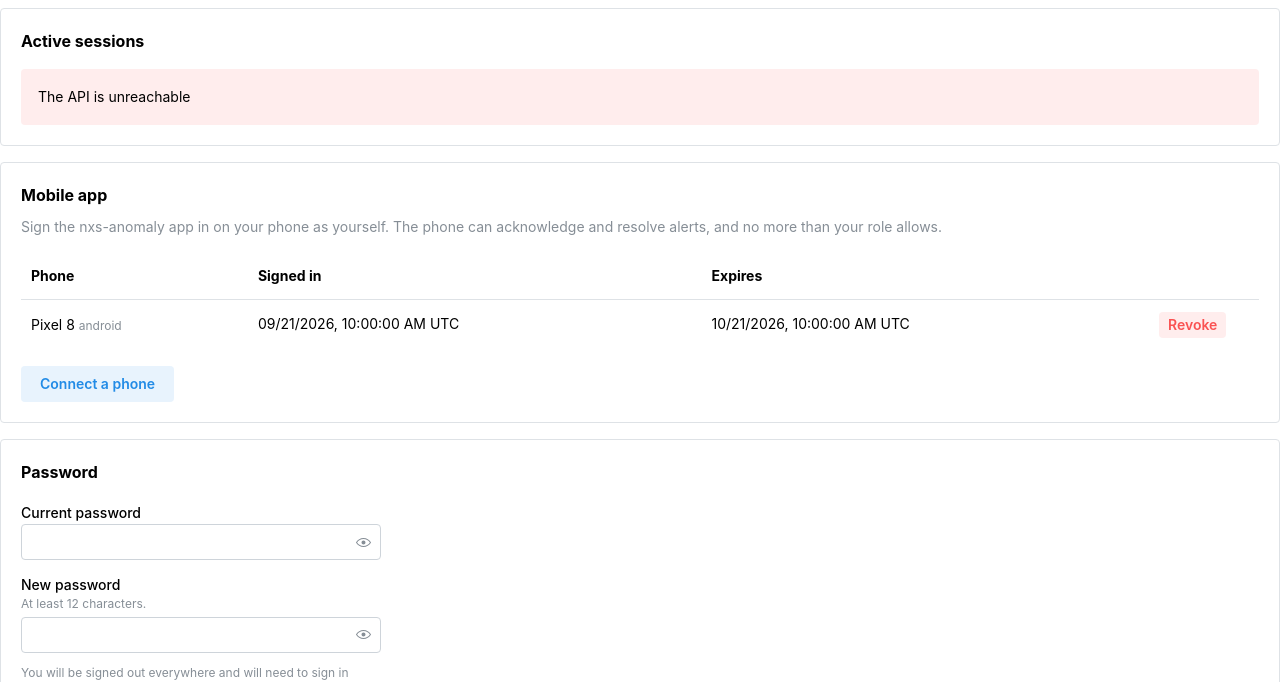
Test: SettingsPage mobile pairing › lists signed-in phones and signs one out
The image size is (1280, 682).
(page scrolled)
Expected: the text "Pixel 8" is shown, x1=31 y1=316 x2=75 y2=333
Click the button "Revoke" at (1193, 324), box x1=1159 y1=312 x2=1226 y2=338
(page scrolled)
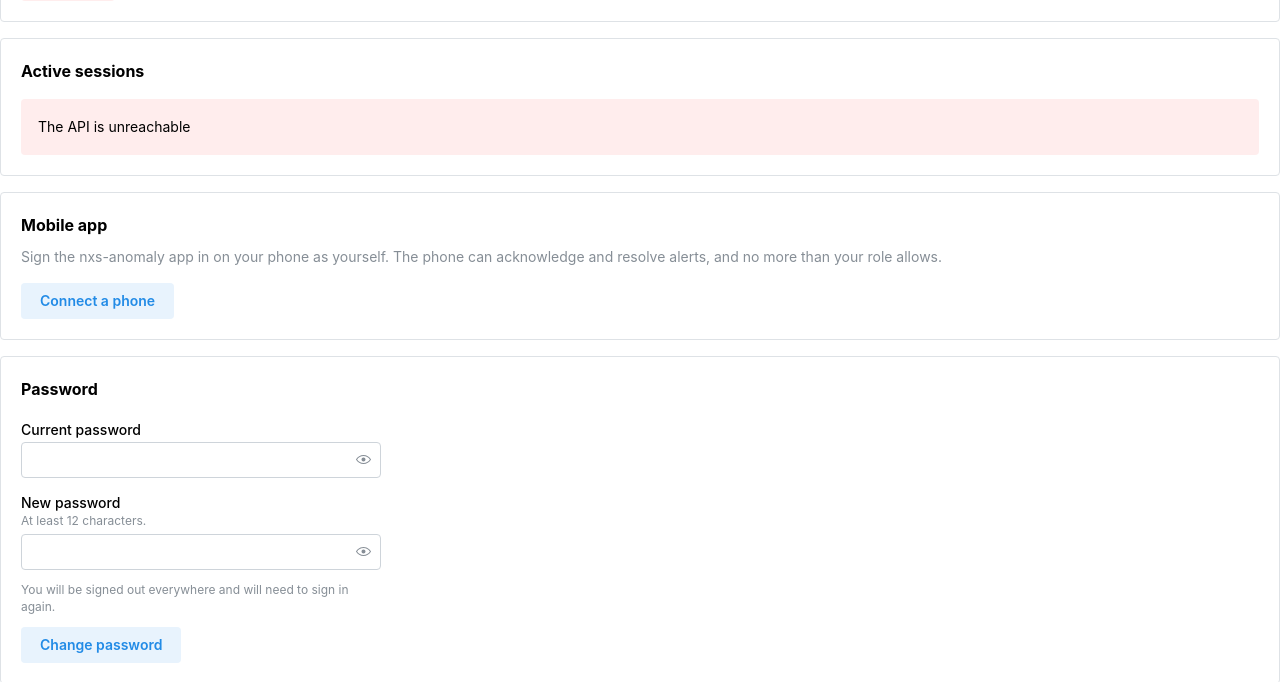
Expected: the text "Pixel 8" is gone
